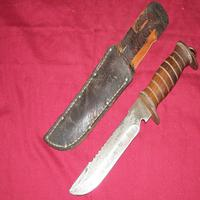knife: (66, 48, 191, 198)
